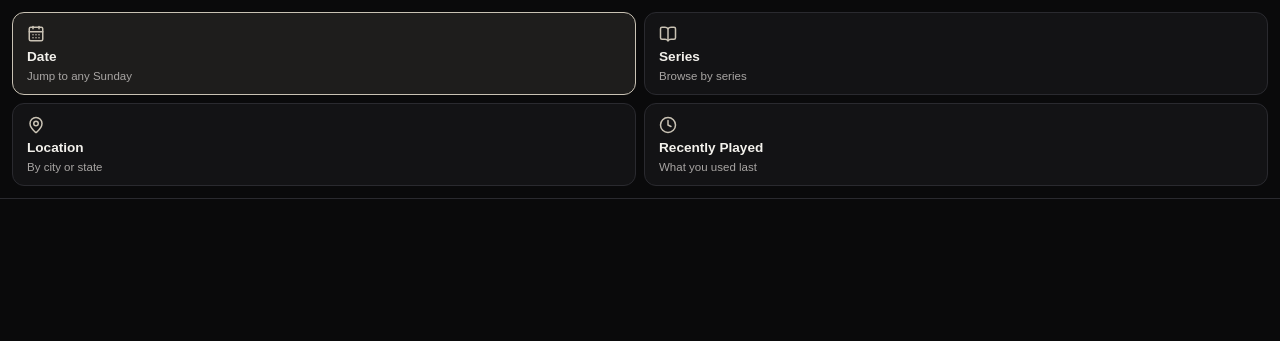
Test: Browse shows the paragraphs of the sermon that is open › a slow answer for a sermon no longer open is dropped
Click the button "Series Browse by series". click: (679, 56)
box: [644, 12, 1268, 95]
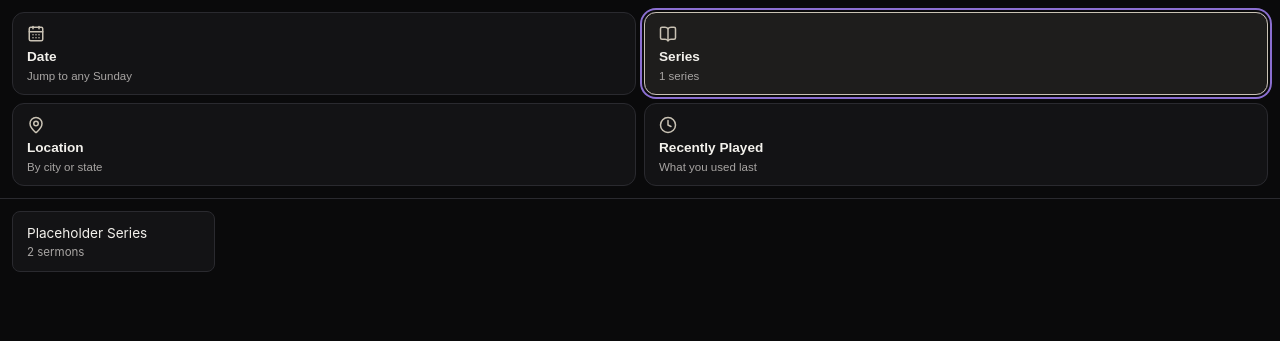
Click the text "Placeholder Series". click: (87, 233)
box: [27, 225, 147, 241]
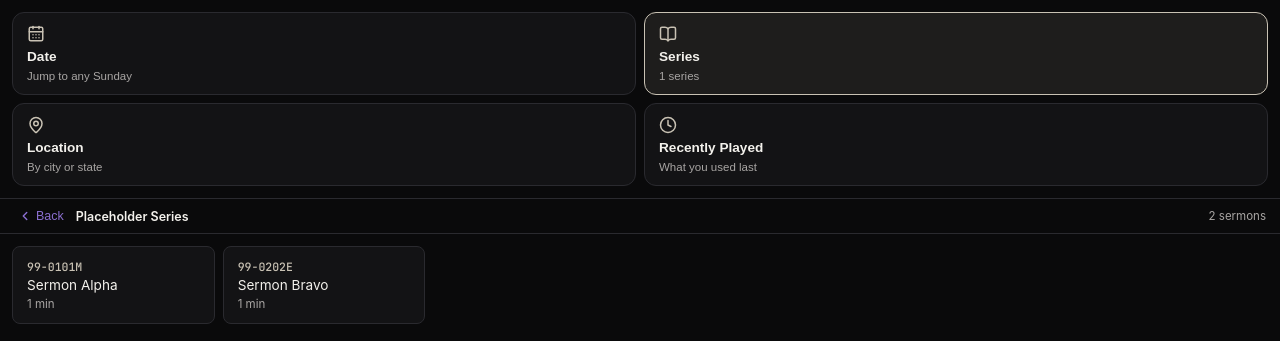
Click the text "Sermon Alpha". click: (72, 285)
box: [27, 277, 118, 293]
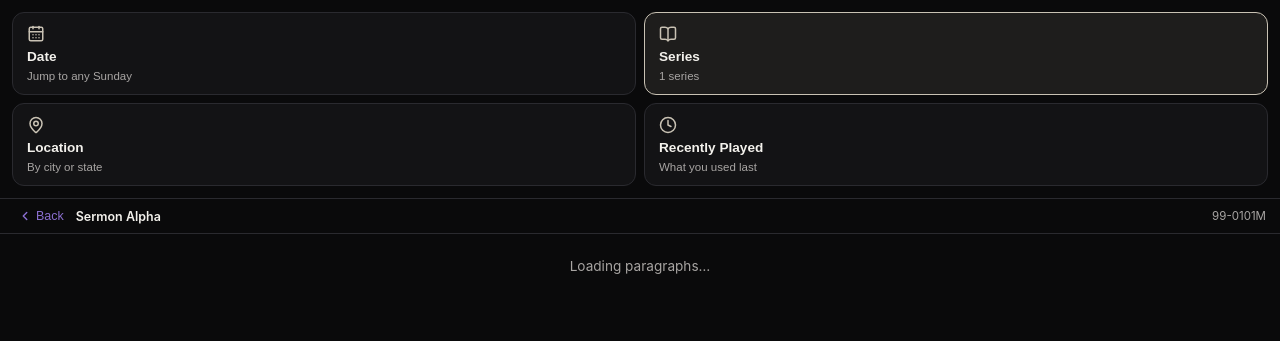
Click the button "Back". click: (41, 216)
box: [14, 207, 68, 225]
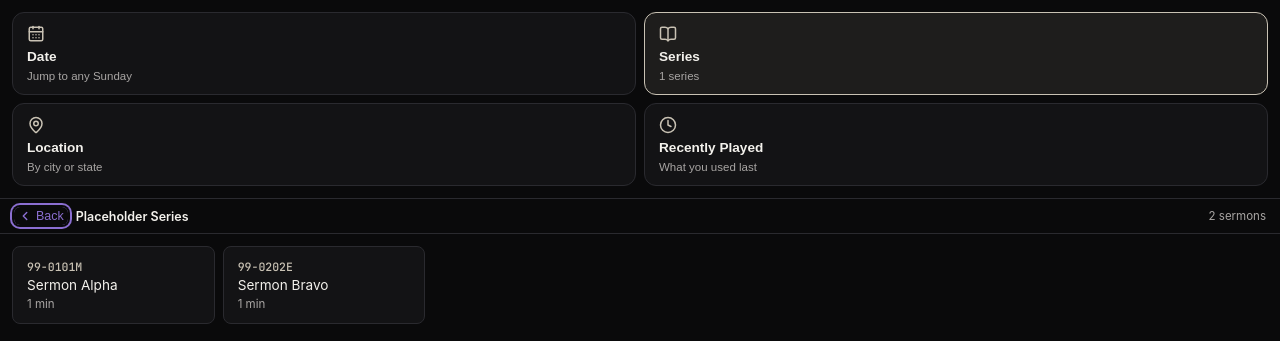
Click the text "Sermon Bravo". click: (283, 285)
box: [238, 277, 329, 293]
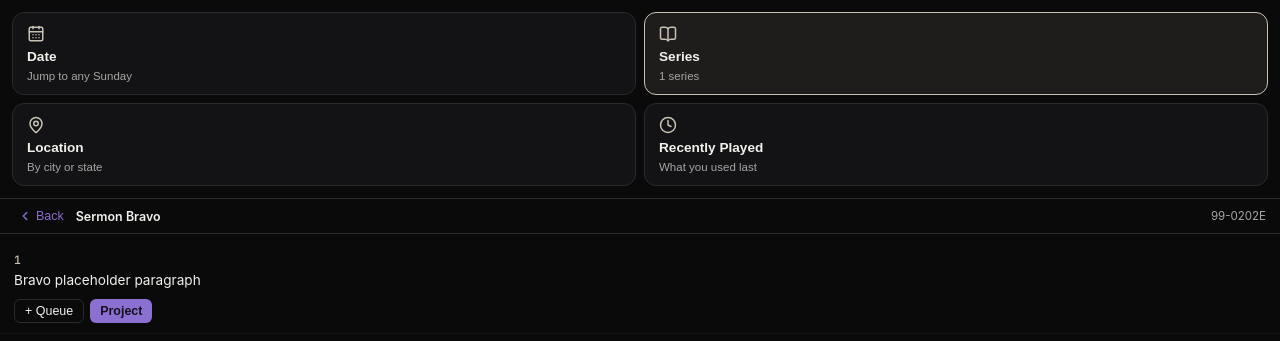
Check: the text "Bravo placeholder paragraph" is shown, box [14, 272, 201, 288]
